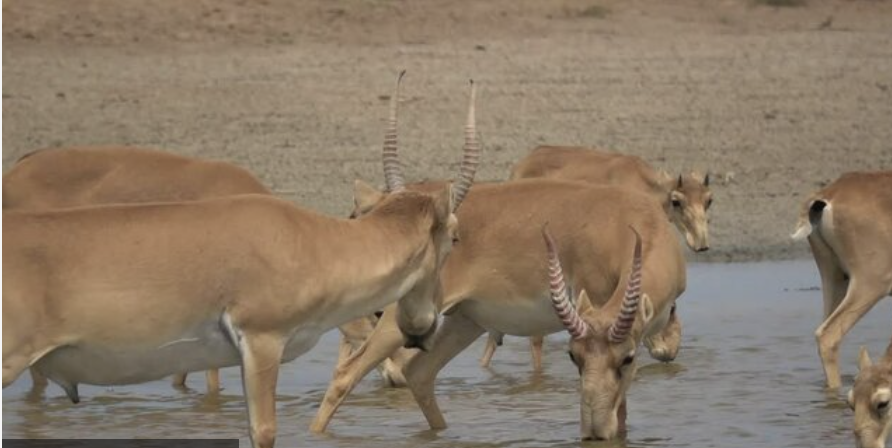saiga: (26, 133, 471, 444), (446, 177, 702, 448)
